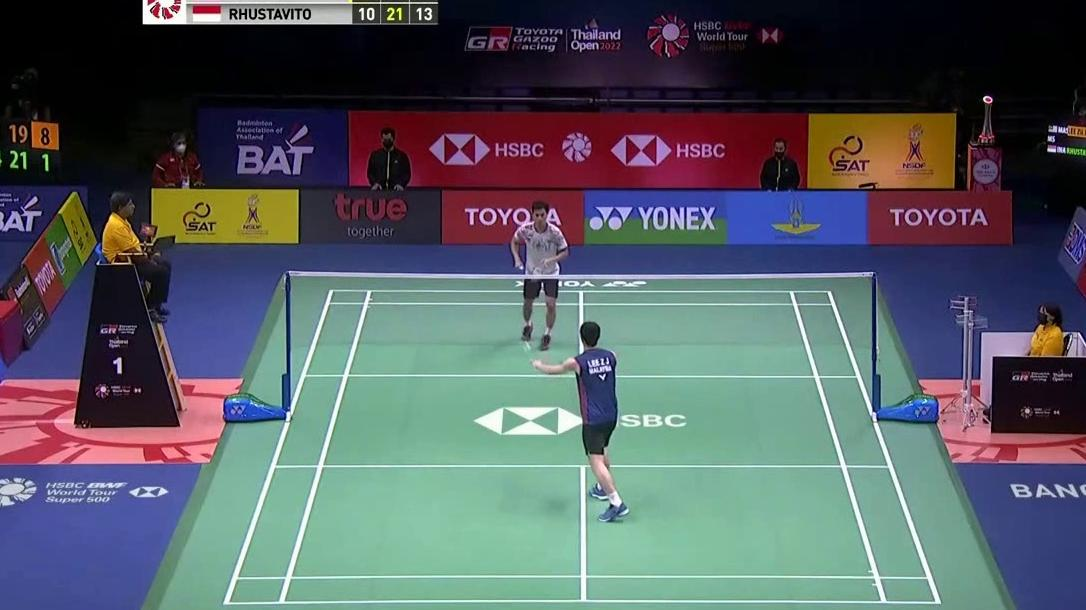racket: (518, 264, 543, 284), (521, 341, 538, 368)
shuttle: (523, 341, 531, 353)
